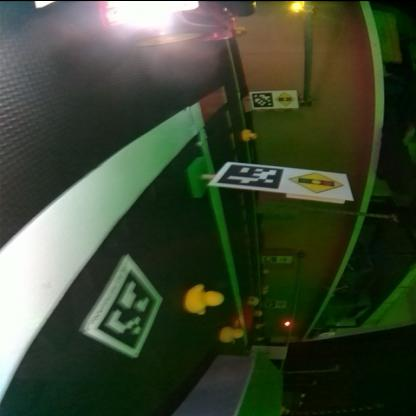Duckie: (186, 286, 226, 314), (220, 326, 244, 342), (243, 130, 257, 140)
QR code: (84, 254, 163, 358), (215, 163, 285, 189), (251, 92, 273, 108)
Signal sign: (288, 170, 350, 196), (276, 92, 296, 106)
